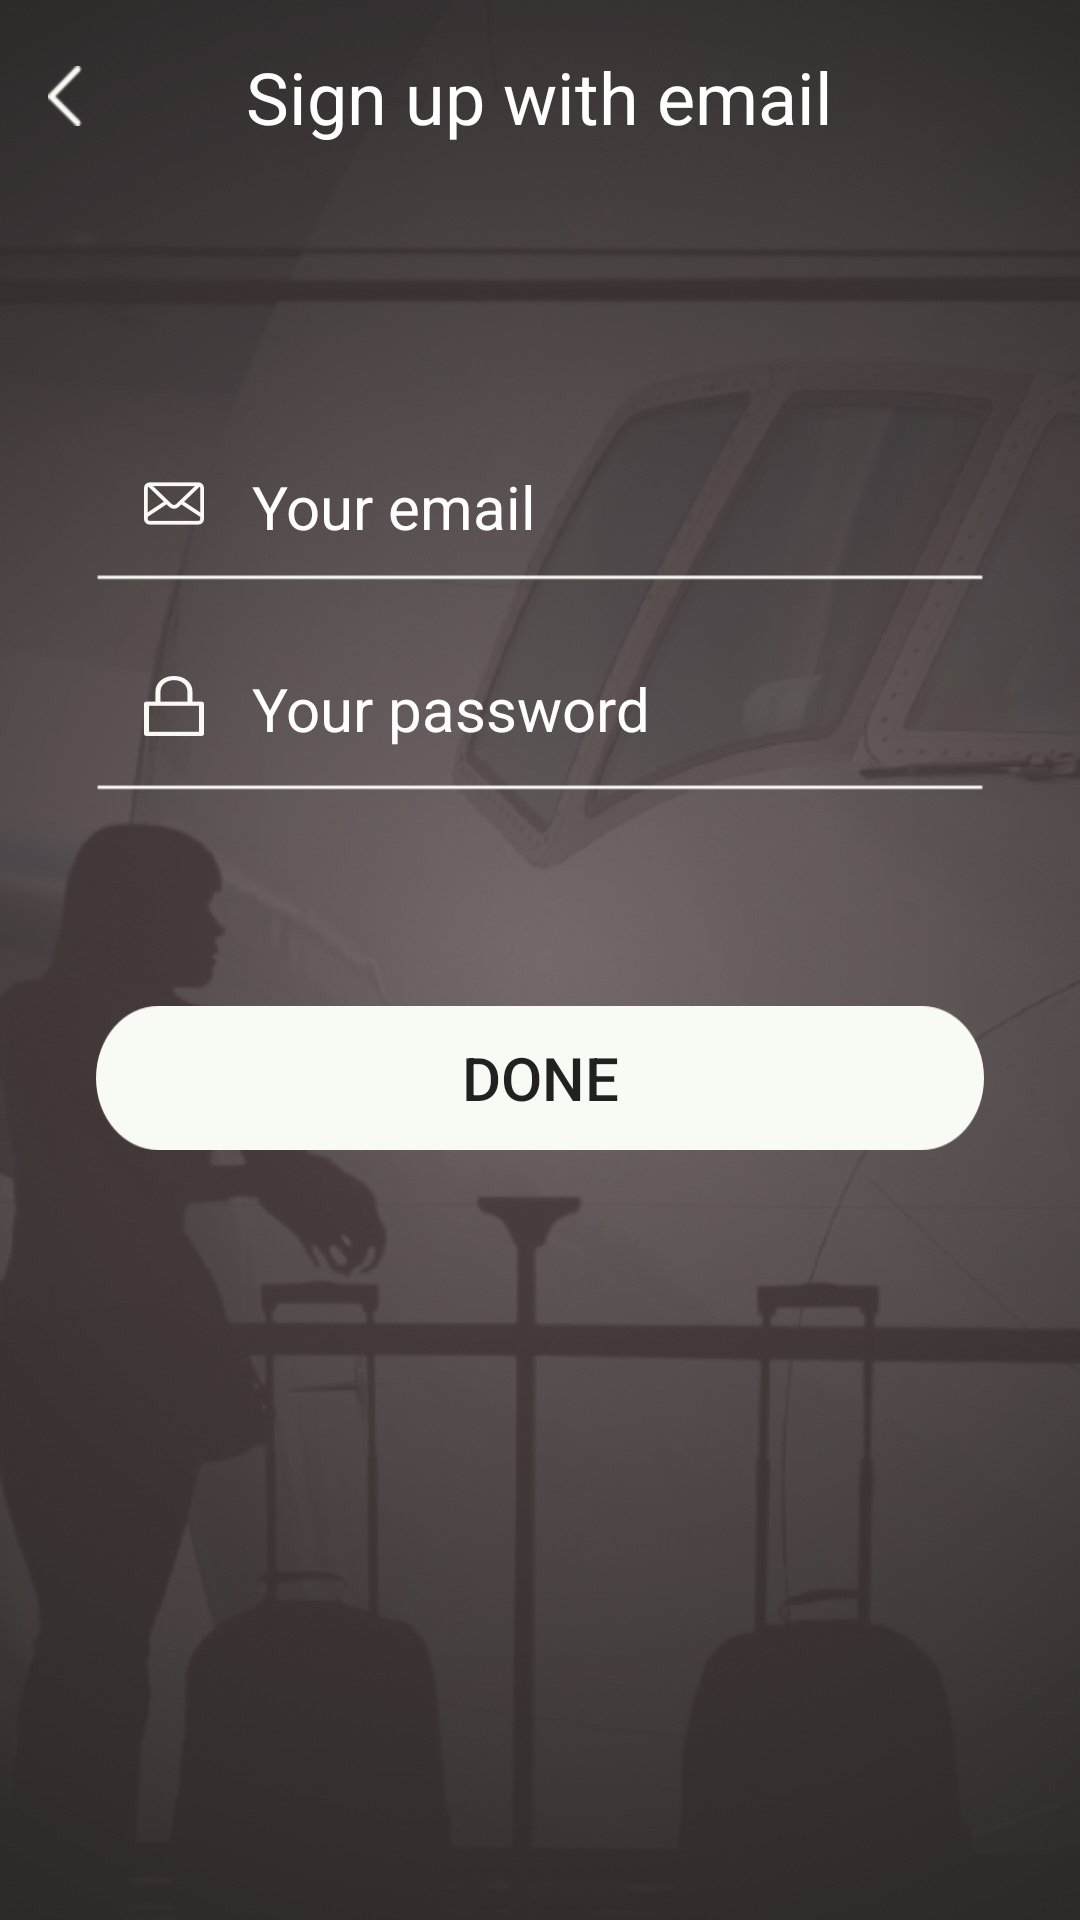

Screen size 1080px×1920px. Icon name, then its center in pixels as (x=x, y=y):
arrow back: (x=65, y=96)
lock: (x=174, y=706)
